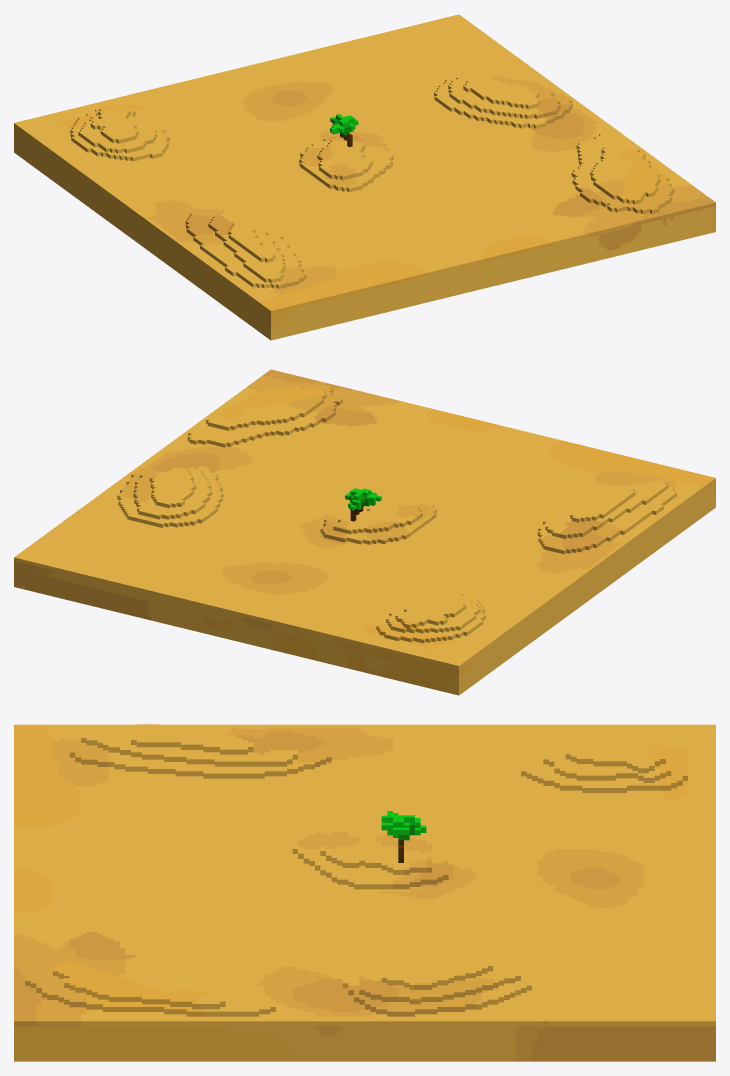
File: Egypt-4.obj
The picture shows the model from 3 angles, top to bottom: view 1: azimuth 30°, elevation 25°; view 2: azimuth 150°, elevation 25°; view 3: azimuth 270°, elevation 25°; orthographic projection. The views are drawn at different scales.
Size of the model in its own units: 12.6 by 1.8 by 12.6.
1 material, 1 textured.
